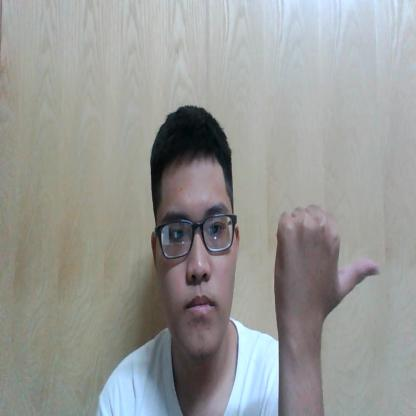left: (274, 202, 380, 333)
